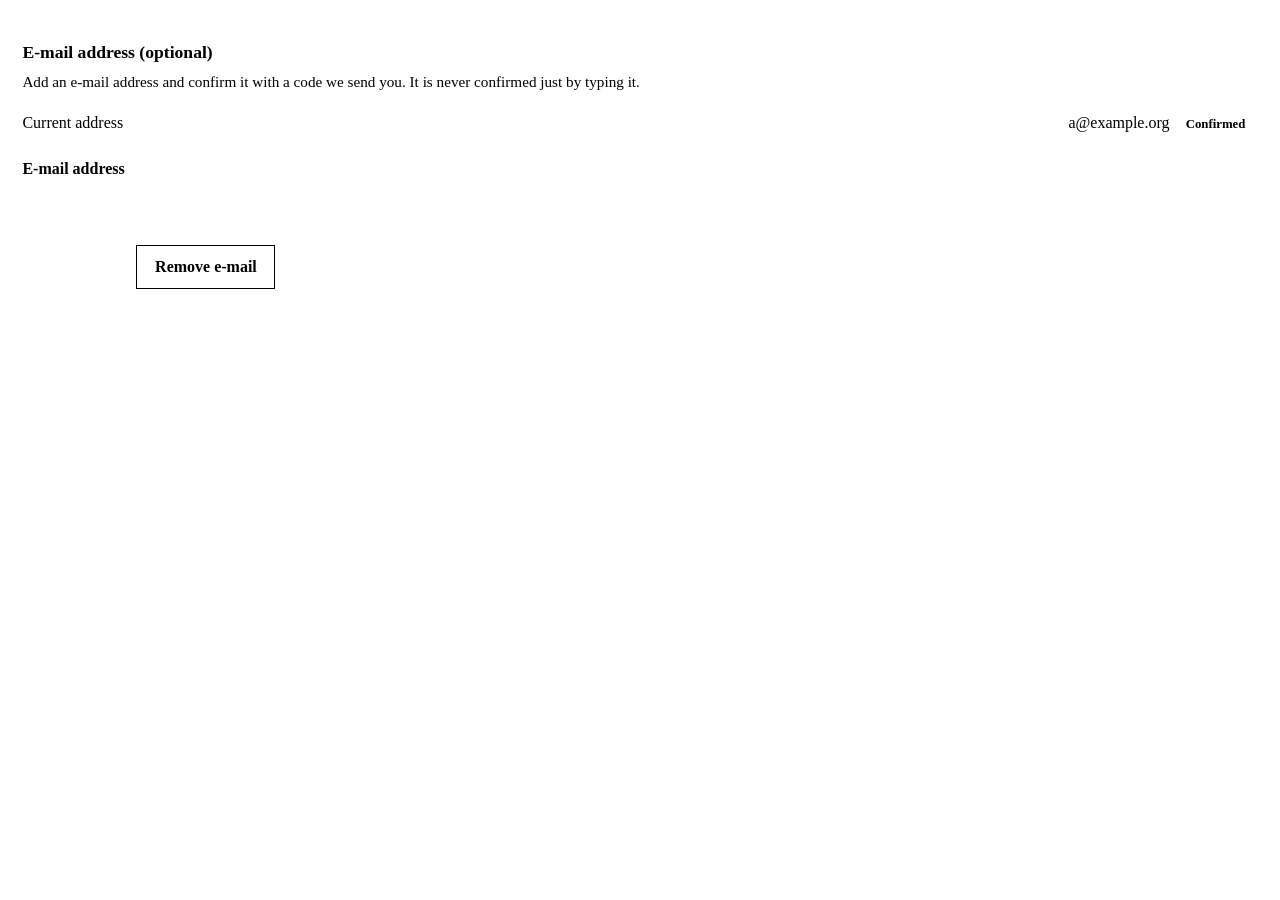
Test case: E-mail card (optional verified e-mail, mock messaging) › remove asks first, then calls the API
Later steps or results of the test are not shown.
Expected: the text "Confirmed" is shown, top-left (1186, 117), bottom-right (1245, 131)
Click the button "Remove e-mail". click: (206, 267)
box: top-left (136, 245), bottom-right (275, 289)
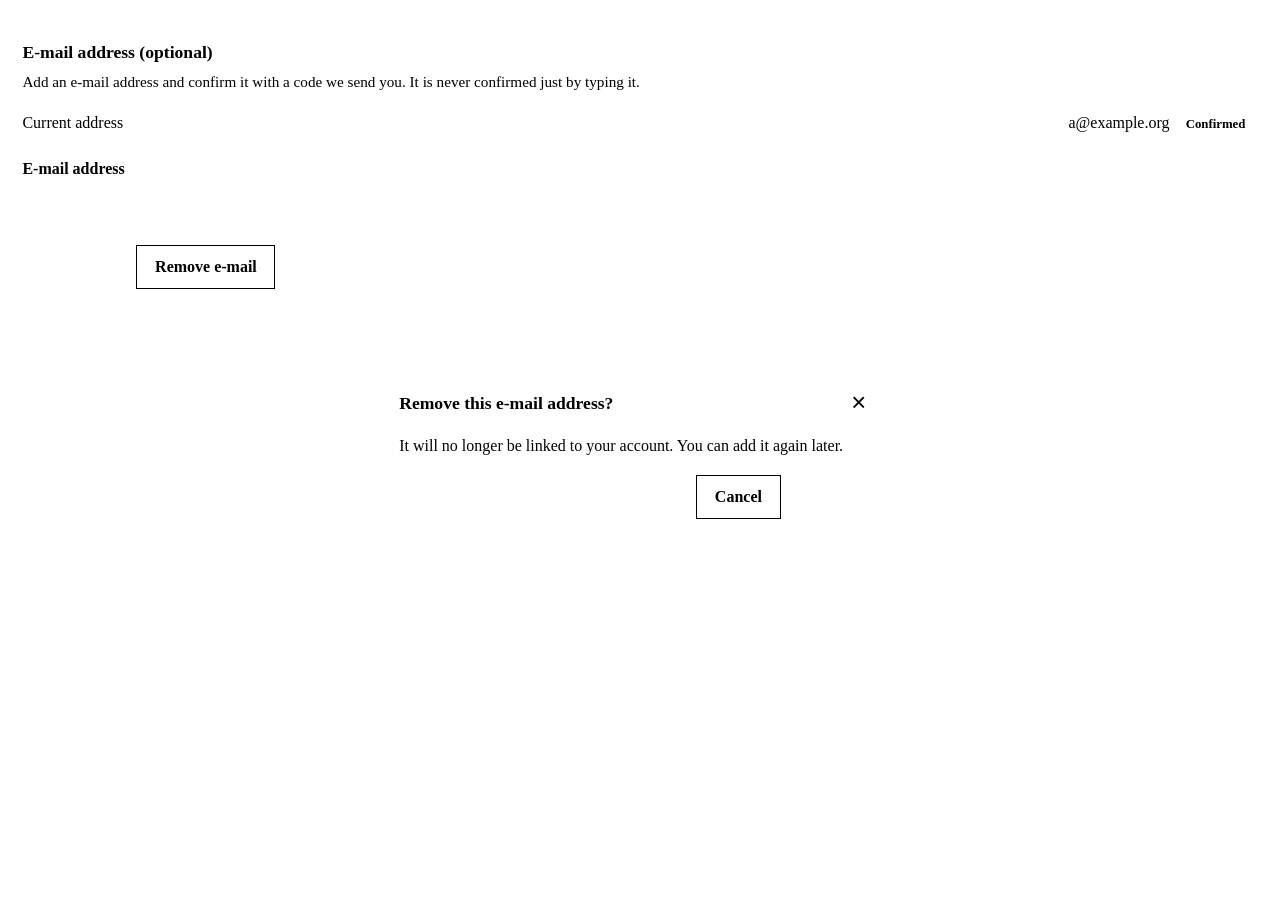
Expected: the dialog "Remove this e-mail address?" is shown, top-left (380, 362), bottom-right (900, 538)
